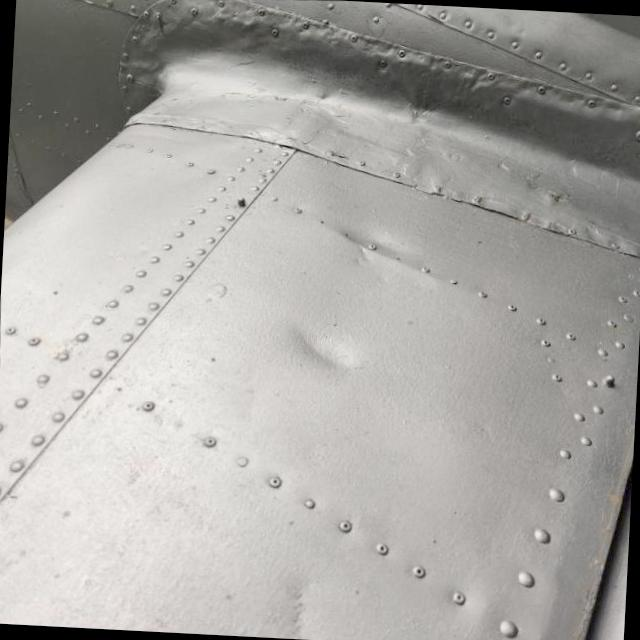dent: (312, 195, 440, 289), (272, 305, 363, 391)
